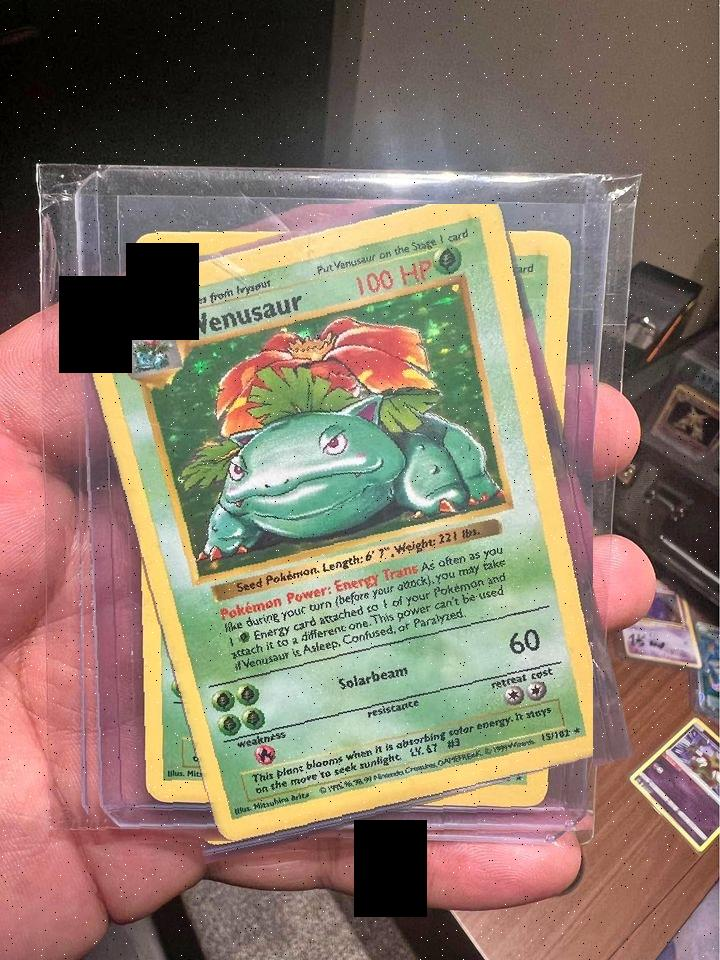card: (73, 204, 593, 841)
